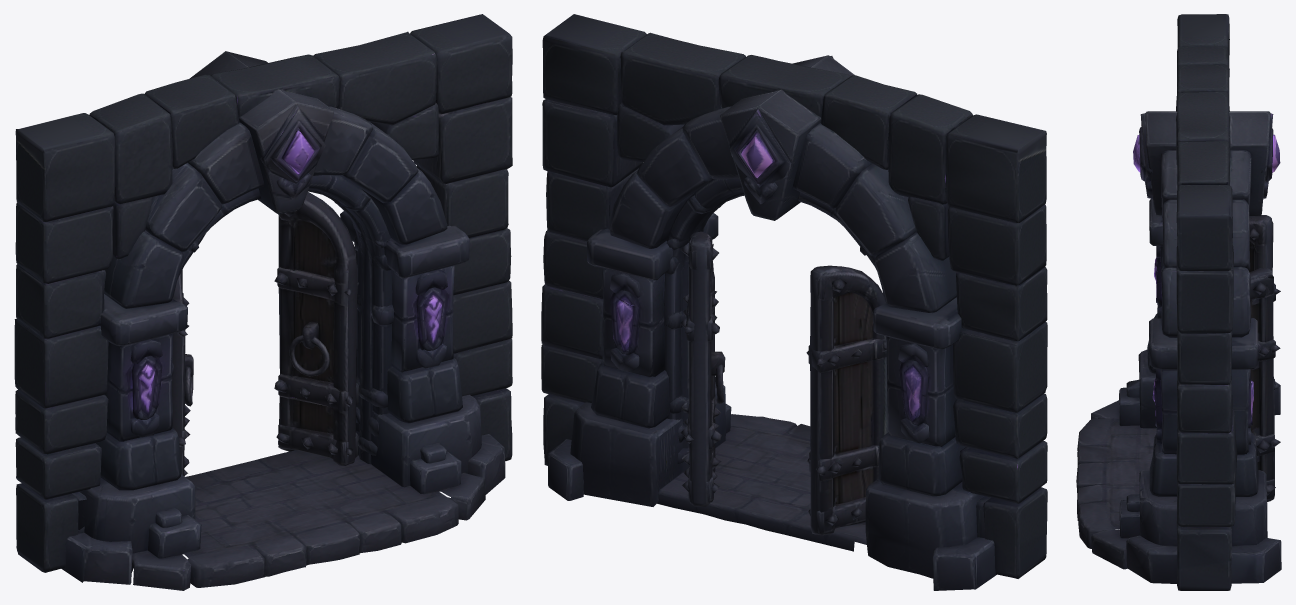
The model's file is door_opened.glb.
3 renders of one model, left to right at view 1: azimuth 30°, elevation 25°; view 2: azimuth 150°, elevation 25°; view 3: azimuth 270°, elevation 25°, orthographic. The views are drawn at different scales.
Visible parts, largest first — view 1: mesh_node; view 2: mesh_node; view 3: mesh_node.
Boxes of the visible parts, x1,y1,x2,y2 form: mesh_node: (14,14,512,590); mesh_node: (541,14,1047,590); mesh_node: (1076,14,1281,590).
Bounding box in the file's own units: 1 × 0.8906 × 0.4297.
1 material, 1 textured.
